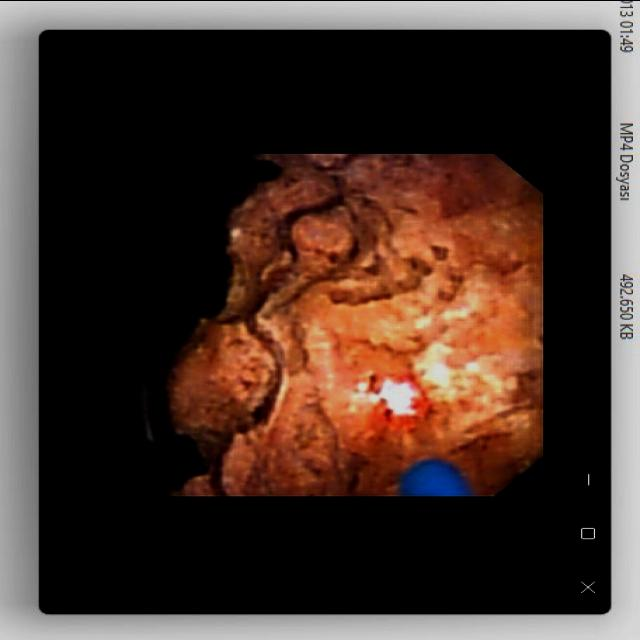fiber: (406, 467, 468, 491)
stone: (172, 159, 539, 491)
